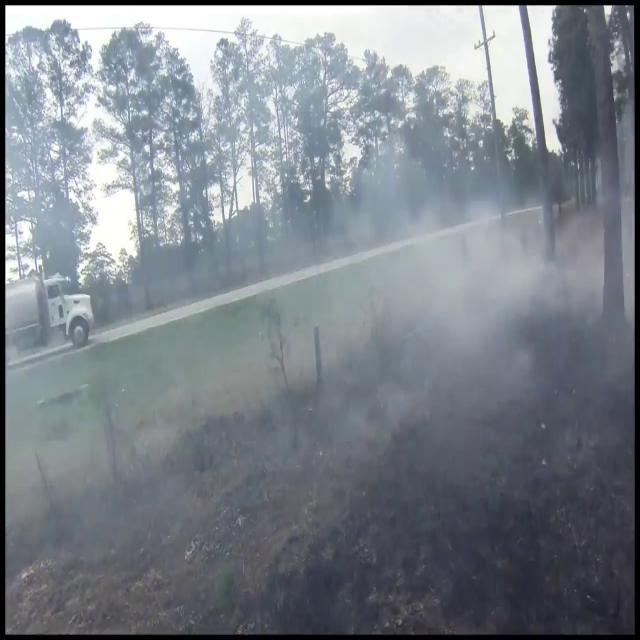Smoke: (24, 58, 632, 555)
